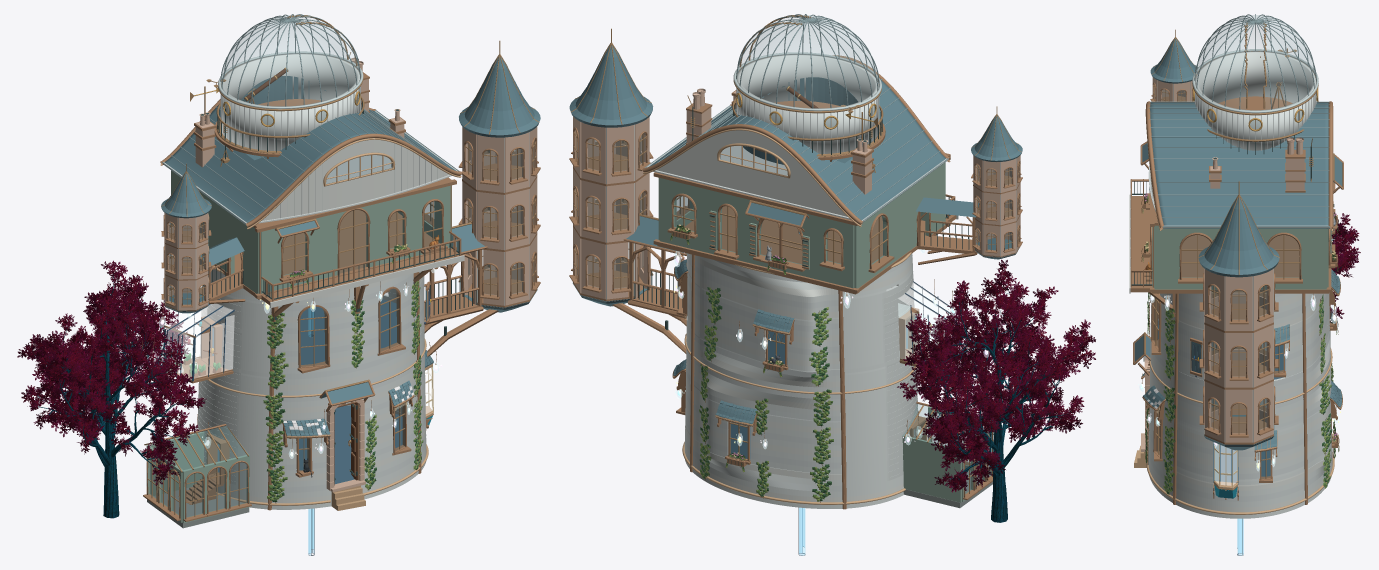
Rendered from mansion-v10.glb.
3 renders of one model, left to right at view 1: azimuth 30°, elevation 25°; view 2: azimuth 150°, elevation 25°; view 3: azimuth 270°, elevation 25°, orthographic. The views are drawn at different scales.
Parts seen in each view (by area): view 1: M09_HouseTree_Number5_Leaves, M01_Reuse_CURVE_BellGable_SlateRoof, M01_Reuse_ObsDome_Curved, M01_Reuse_CURVE_Observatory_CylindricalDrum, M01_Reuse_CURVE_ArchedGable_PaintedTimber, M09_HouseTree_Number5_Branches, M01_Tower_WitchHat, M01_UpperFloor_Slab, M01_Reuse_INT_Slab_Kitchen, M01_Conservatory_RoofGlass, M01_Reuse_INT_Slab_Living, M01_Reuse_CURVE_Roof_Soffit (+29 smaller); view 2: M09_HouseTree_Number5_Leaves, M01_Reuse_CURVE_BellGable_SlateRoof, M01_Reuse_ObsDome_Curved, M01_Reuse_CURVE_Observatory_CylindricalDrum, M01_Reuse_CURVE_ArchedGable_Rear, M09_HouseTree_Number5_Branches, M01_Tower_WitchHat, M01_UpperFloor_Slab, M01_Conservatory_Back, M04_WestPassage, M01_Reuse_CURVE_Roof_Soffit, M04_WestTurret_M01_Tower_WitchHat (+55 smaller); view 3: M01_Reuse_CURVE_BellGable_SlateRoof, M01_Reuse_CURVE_Observatory_CylindricalDrum, M01_Reuse_ObsDome_Curved, M01_Tower_WitchHat, M01_UpperFloor_Slab, M01_UpperFloor_Side_R.003, M01_UpperFloor_Side_L.002, M01_GrandBalcony_Deck, M04_WestTurret_M01_Tower_WitchHat, M09_HouseTree_Number5_Leaves, M01_Reuse_INT_Slab_Living, M01_UpperFloor_Side_Glass.004 (+63 smaller).
Boxes of the visible parts, x1=… form: M09_HouseTree_Number5_Leaves: x1=17, y1=260, x2=206, y2=485; M01_Reuse_CURVE_BellGable_SlateRoof: x1=164, y1=76, x2=455, y2=225; M01_Reuse_ObsDome_Curved: x1=221, y1=15, x2=359, y2=105; M01_Reuse_CURVE_Observatory_CylindricalDrum: x1=221, y1=53, x2=359, y2=150; M01_Reuse_CURVE_ArchedGable_PaintedTimber: x1=262, y1=138, x2=448, y2=220; M09_HouseTree_Number5_Branches: x1=32, y1=274, x2=187, y2=518; M01_Tower_WitchHat: x1=459, y1=57, x2=540, y2=137; M01_UpperFloor_Slab: x1=214, y1=210, x2=439, y2=299; M01_Reuse_INT_Slab_Kitchen: x1=212, y1=299, x2=396, y2=364; M01_Conservatory_RoofGlass: x1=170, y1=426, x2=249, y2=471; M01_Reuse_INT_Slab_Living: x1=217, y1=405, x2=402, y2=484; M01_Reuse_CURVE_Roof_Soffit: x1=162, y1=110, x2=457, y2=224; M09_HouseTree_Number5_Leaves: x1=897, y1=259, x2=1095, y2=492; M01_Reuse_CURVE_BellGable_SlateRoof: x1=649, y1=60, x2=947, y2=223; M01_Reuse_ObsDome_Curved: x1=737, y1=15, x2=878, y2=107; M01_Reuse_CURVE_Observatory_CylindricalDrum: x1=737, y1=54, x2=878, y2=153; M01_Reuse_CURVE_ArchedGable_Rear: x1=656, y1=128, x2=847, y2=216; M09_HouseTree_Number5_Branches: x1=916, y1=280, x2=1082, y2=522; M01_Tower_WitchHat: x1=569, y1=45, x2=653, y2=127; M01_UpperFloor_Slab: x1=657, y1=206, x2=946, y2=294; M01_Conservatory_Back: x1=902, y1=435, x2=961, y2=502; M04_WestPassage: x1=916, y1=197, x2=979, y2=264; M01_Reuse_CURVE_Roof_Soffit: x1=646, y1=105, x2=948, y2=222; M04_WestTurret_M01_Tower_WitchHat: x1=971, y1=116, x2=1022, y2=161; M01_Reuse_CURVE_BellGable_SlateRoof: x1=1150, y1=103, x2=1330, y2=228; M01_Reuse_CURVE_Observatory_CylindricalDrum: x1=1195, y1=51, x2=1315, y2=150; M01_Reuse_ObsDome_Curved: x1=1195, y1=15, x2=1315, y2=109; M01_Tower_WitchHat: x1=1198, y1=197, x2=1279, y2=277; M01_UpperFloor_Slab: x1=1152, y1=235, x2=1328, y2=293; M01_UpperFloor_Side_R.003: x1=1300, y1=228, x2=1327, y2=289; M01_UpperFloor_Side_L.002: x1=1154, y1=225, x2=1180, y2=289; M01_GrandBalcony_Deck: x1=1130, y1=196, x2=1149, y2=292; M04_WestTurret_M01_Tower_WitchHat: x1=1150, y1=38, x2=1196, y2=83; M09_HouseTree_Number5_Leaves: x1=1330, y1=213, x2=1360, y2=318; M01_Reuse_INT_Slab_Living: x1=1213, y1=442, x2=1270, y2=484; M01_UpperFloor_Side_Glass.004: x1=1269, y1=235, x2=1299, y2=277.
Bounding box in the file's own units: 40.24 × 40.28 × 16.31.
Materials: 75 (2 with a texture image).
